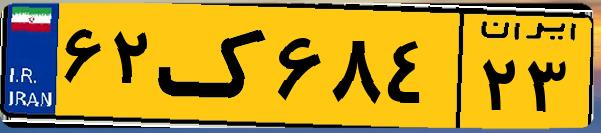2: (475, 38, 525, 113), (110, 28, 158, 98)
3: (525, 38, 570, 115)
4: (385, 28, 445, 110)
6: (270, 28, 330, 110), (57, 26, 110, 100)
8: (330, 28, 385, 110)
ک: (158, 12, 270, 120)
